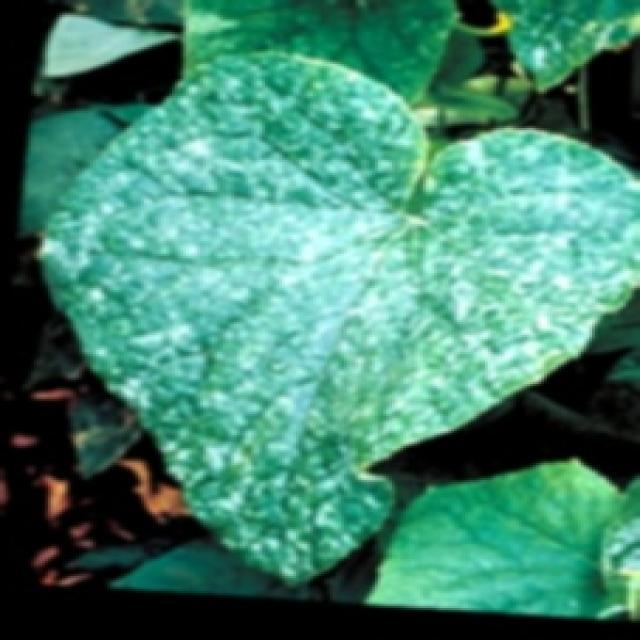Leaf_Mold: (48, 83, 640, 587), (87, 246, 250, 430), (473, 192, 608, 361)
